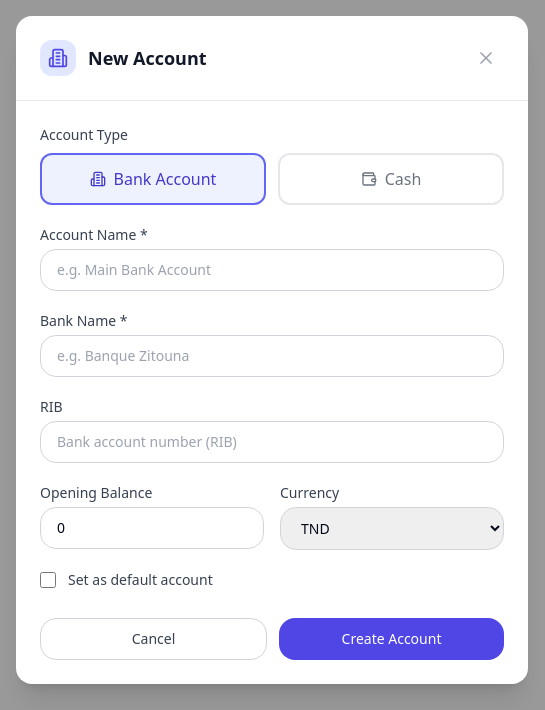
Test: AccountModal › Account Type Selection › should hide bank fields when CASH is selected
Click the button "Cash".
click(391, 179)  # box [278,153,504,205]
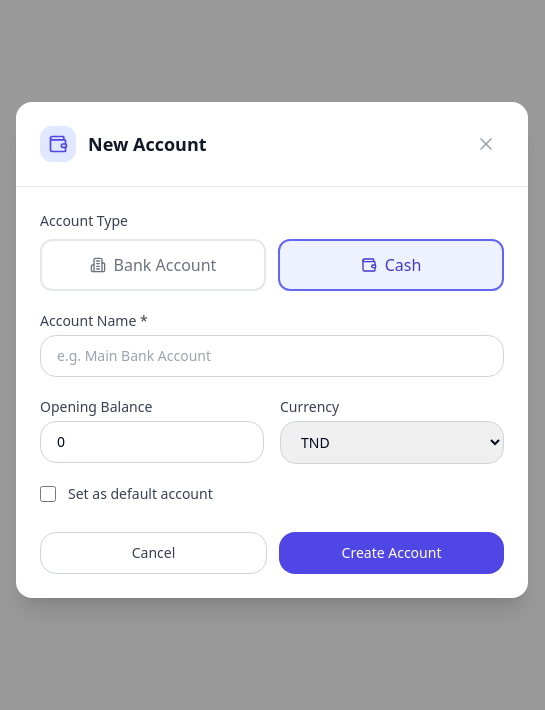
Check: the label labelled "Bank Name" is gone
Check: the label labelled "RIB" is gone
